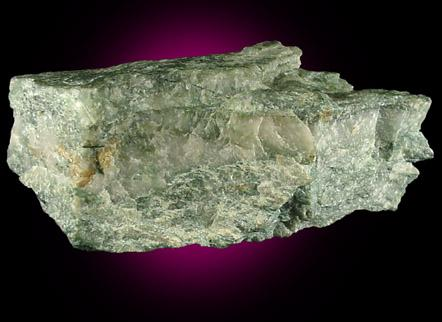gold: (56, 141, 124, 186), (298, 98, 339, 124)
